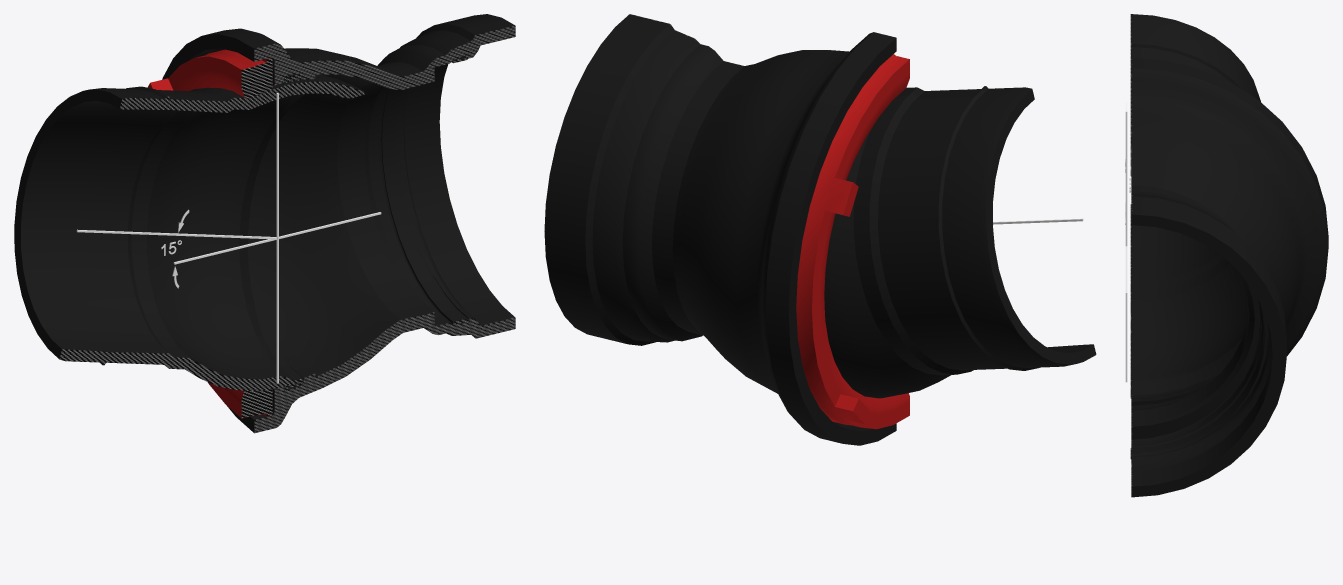
File: USPipe_CrossSection.gltf
3 views of the same model, side by side, from view 1: azimuth 30°, elevation 25°; view 2: azimuth 150°, elevation 25°; view 3: azimuth 270°, elevation 25° (orthographic). The views are drawn at different scales.
Visible parts, largest first — view 1: Pipe_CrossSection_Static; view 2: Pipe_CrossSection_Static; view 3: Pipe_CrossSection_Static.
Part boxes in pixels (<box>): Pipe_CrossSection_Static: <box>14,14,515,433</box>; Pipe_CrossSection_Static: <box>544,14,1096,445</box>; Pipe_CrossSection_Static: <box>1125,14,1328,497</box>.
Bounding box in the file's own units: 1.12 × 1.25 × 0.4635.
1 material, 1 textured.
